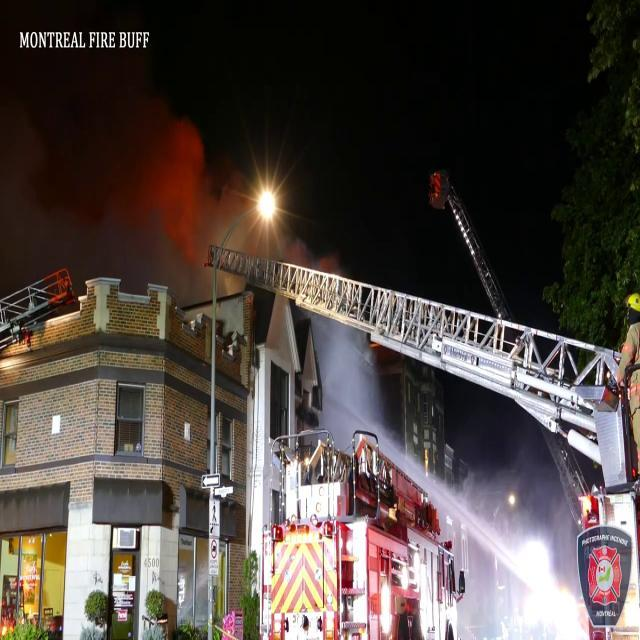Smoke: (0, 47, 244, 299)
